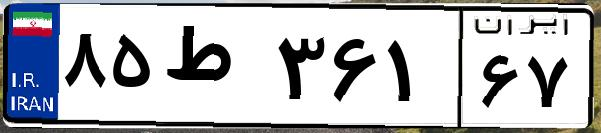1: (385, 28, 445, 110)
3: (270, 28, 330, 110)
5: (110, 28, 158, 98)
6: (330, 28, 385, 110), (475, 38, 525, 113)
7: (525, 38, 570, 115)
8: (57, 26, 110, 100)
ط: (158, 20, 270, 120)
